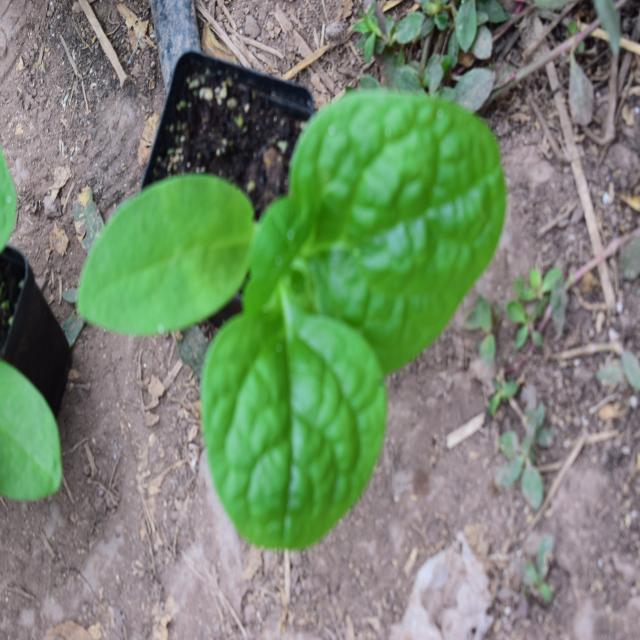Ceylon spinach: (105, 98, 519, 530)
